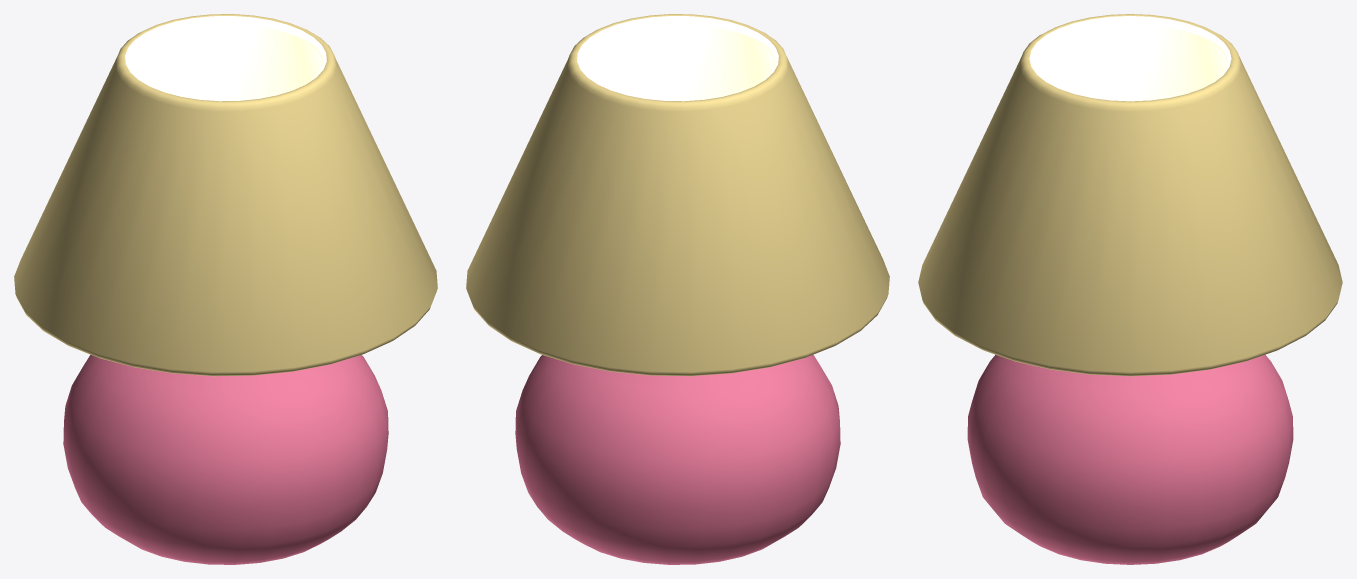
The model's file is abajur_classico.glb.
The picture shows the model from 3 angles, left to right: view 1: azimuth 30°, elevation 25°; view 2: azimuth 150°, elevation 25°; view 3: azimuth 270°, elevation 25°; orthographic projection.
Visible parts, largest first — view 1: abajur_classico; view 2: abajur_classico; view 3: abajur_classico.
Part boxes in pixels (box(x1,y1,x2,y2)): abajur_classico: box(14, 14, 437, 564); abajur_classico: box(466, 14, 889, 564); abajur_classico: box(918, 14, 1342, 564).
Size of the model in its own units: 0.23 by 0.2738 by 0.23.
2 materials, 1 textured.
